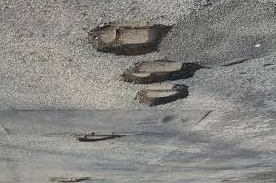pothole: (87, 20, 174, 58), (119, 62, 213, 83), (123, 84, 192, 107), (76, 132, 124, 141), (48, 172, 92, 181)
